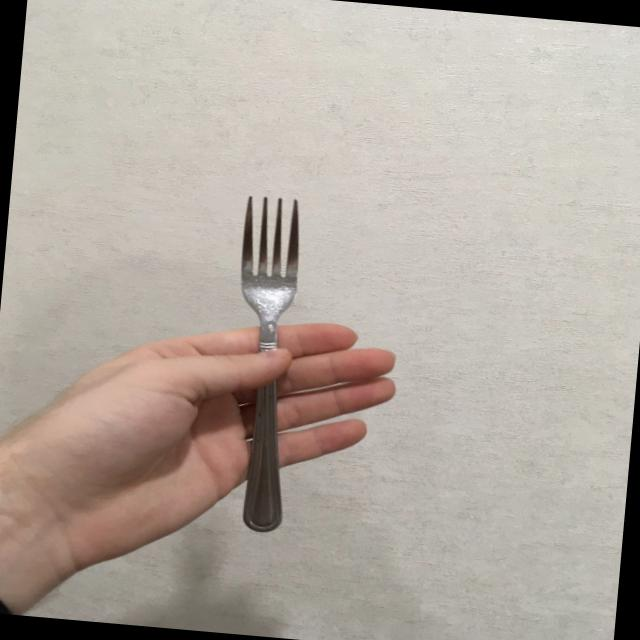fork: (214, 191, 311, 534)
